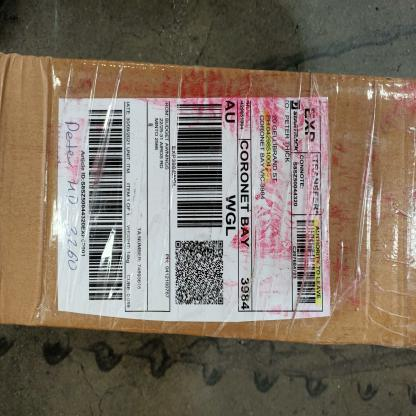label: (58, 98, 331, 325)
package: (0, 50, 416, 354)
